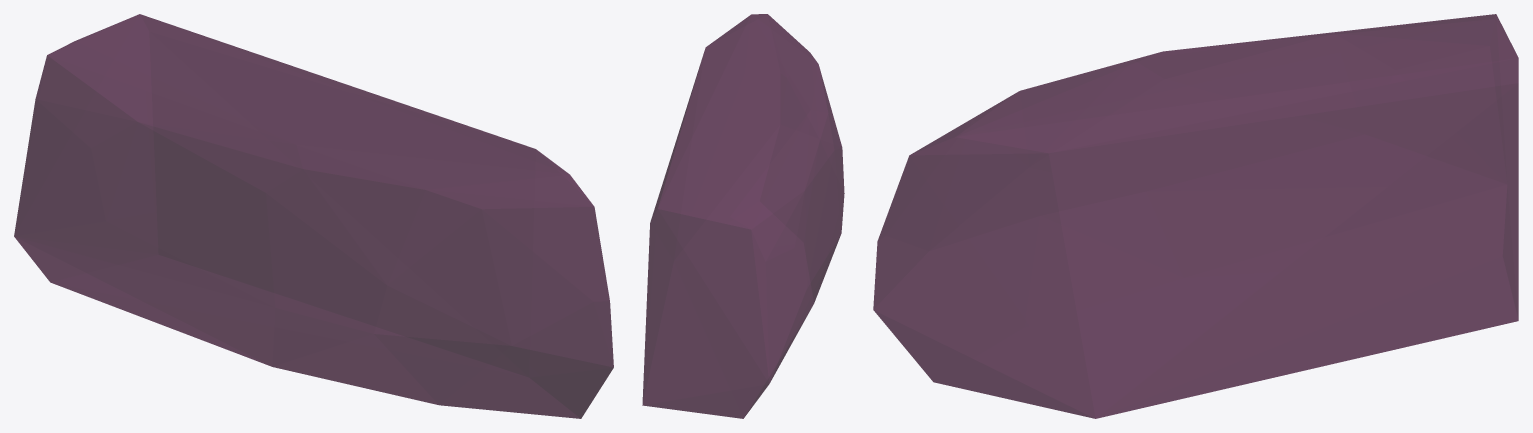
3 views of the same model, side by side, from view 1: azimuth 30°, elevation 25°; view 2: azimuth 150°, elevation 25°; view 3: azimuth 270°, elevation 25° (orthographic). The views are drawn at different scales.
Parts seen in each view (by area): view 1: Shape_IndexedFaceSet.009_Shape_IndexedFaceSet.17987; view 2: Shape_IndexedFaceSet.009_Shape_IndexedFaceSet.17987; view 3: Shape_IndexedFaceSet.009_Shape_IndexedFaceSet.17987.
Part boxes in pixels (left/top/right/bottom): Shape_IndexedFaceSet.009_Shape_IndexedFaceSet.17987: left=14, top=14, right=613, bottom=418; Shape_IndexedFaceSet.009_Shape_IndexedFaceSet.17987: left=642, top=14, right=844, bottom=418; Shape_IndexedFaceSet.009_Shape_IndexedFaceSet.17987: left=873, top=14, right=1518, bottom=418.
Size of the model in its own units: 0.2555 by 0.2003 by 0.4371.
